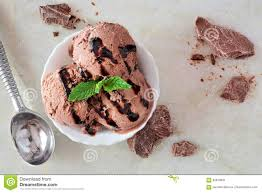ice-cream: (41, 65, 99, 128), (73, 22, 136, 78), (96, 72, 153, 132)
